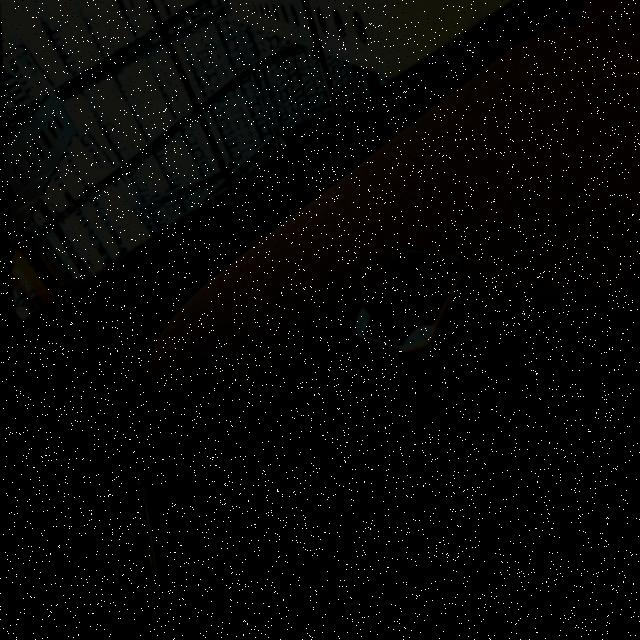adapter: (347, 248, 483, 442)
